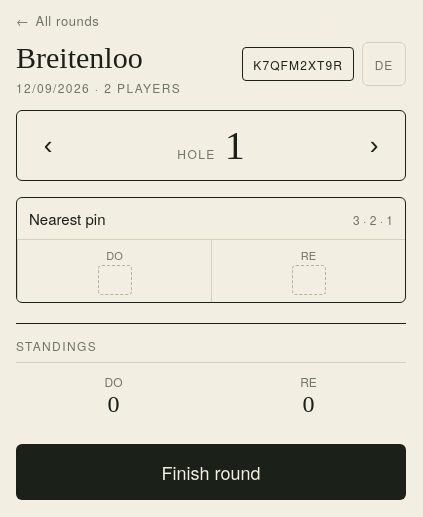
it: LiveRound › starts on hole 1 and steps forward
Expected: the text with test id "hole-number" reads "1", [225,122,245,168]
Click the button named "next hole".
click(374, 145)  # box [343,114,405,176]
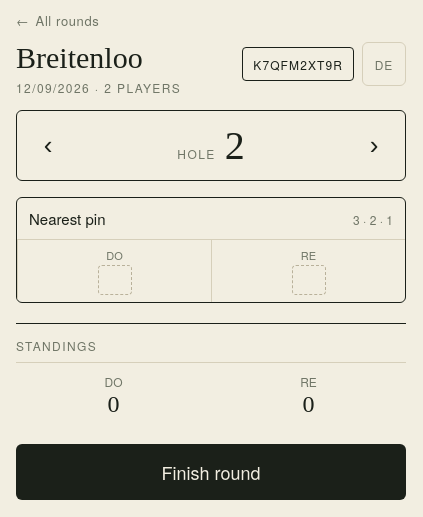
Result: the text with test id "hole-number" reads "2" at [225,122,245,168]
